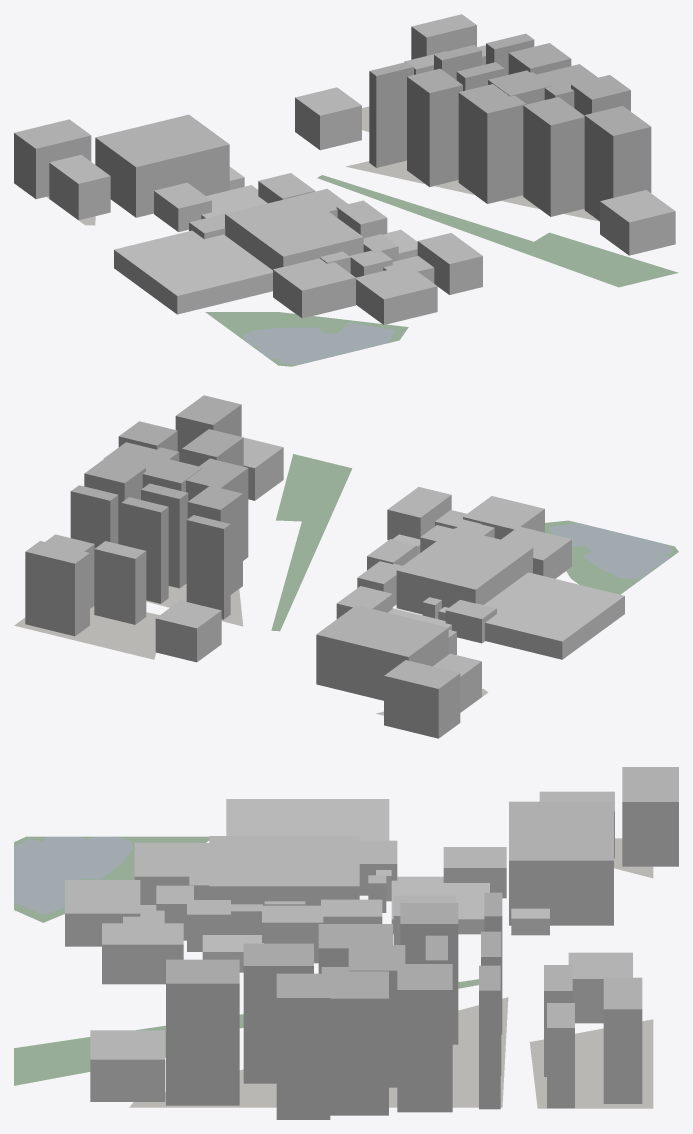
File: 115_86_mid.glb
3 views of the same model, one above another, from view 1: azimuth 30°, elevation 25°; view 2: azimuth 150°, elevation 25°; view 3: azimuth 270°, elevation 25° (orthographic). The views are drawn at different scales.
Size of the model in its own units: 549 by 106 by 520.
